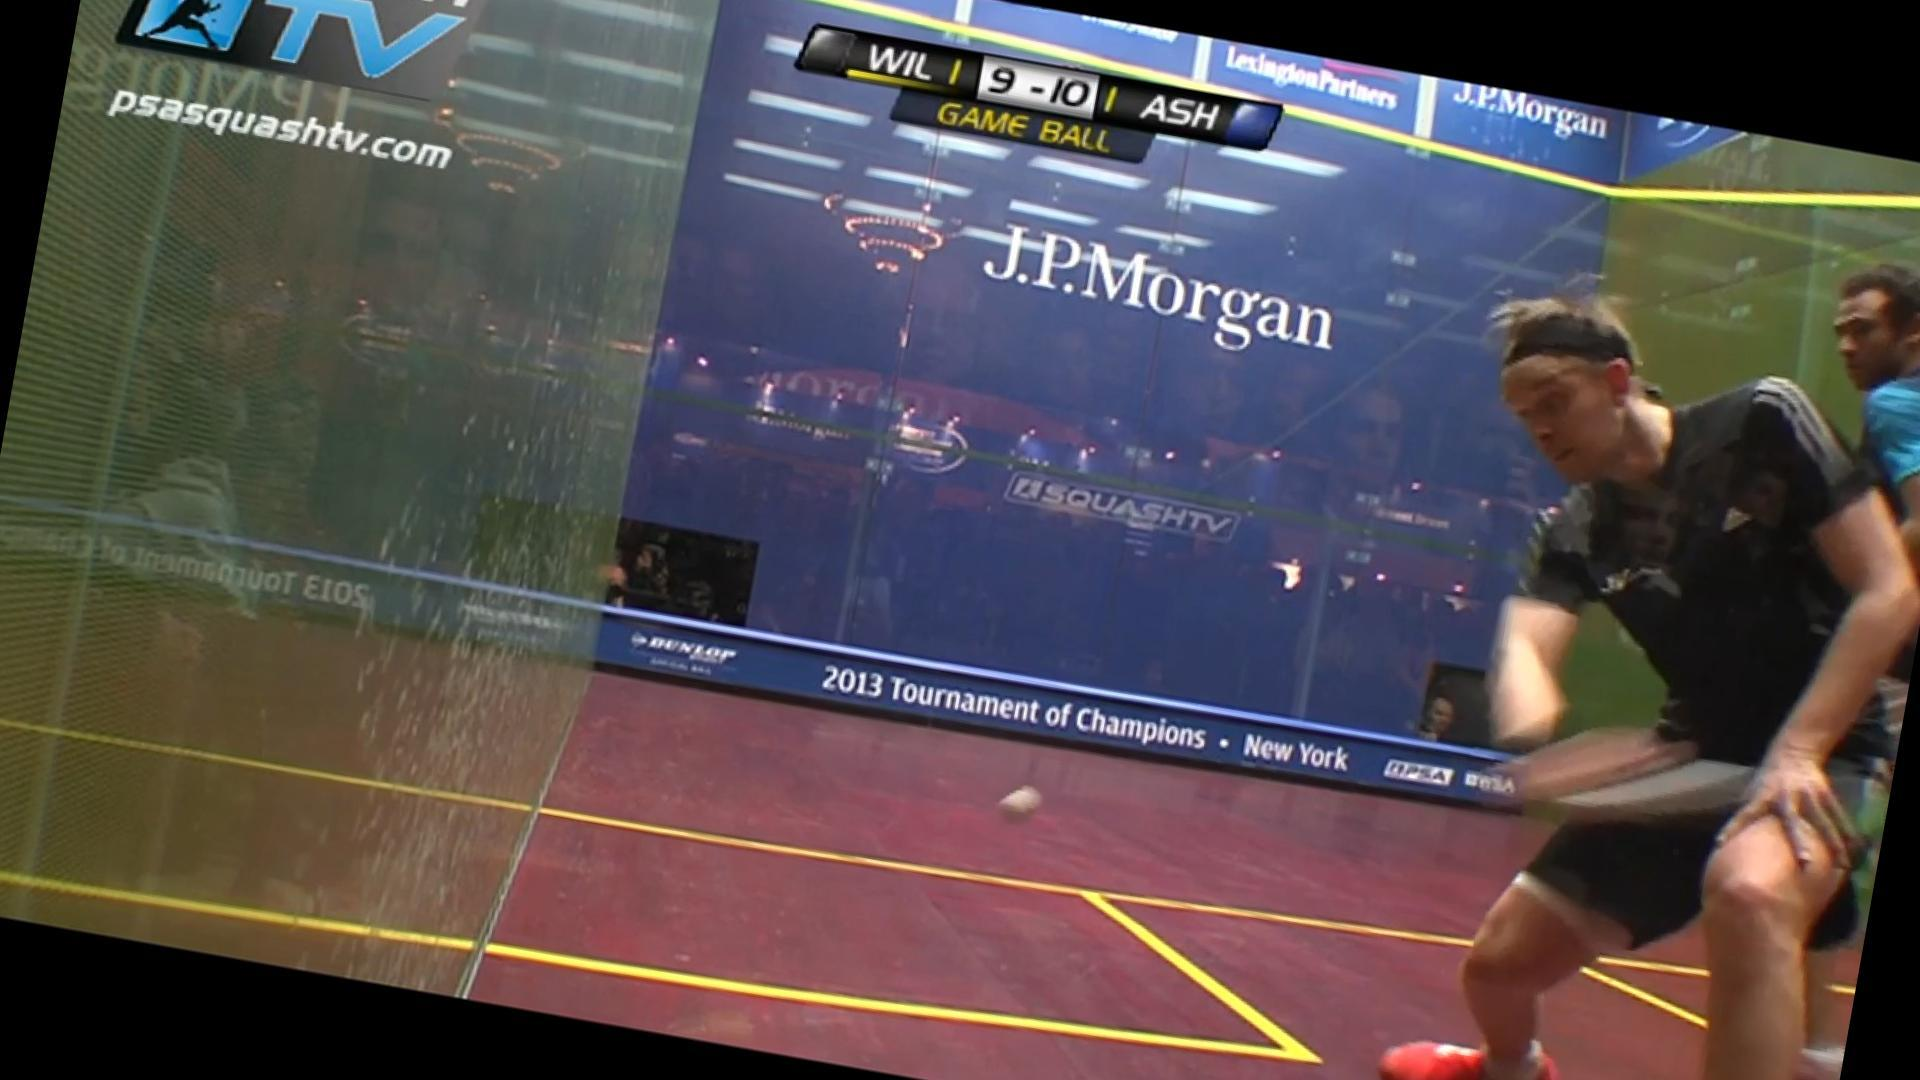Squash-Ball: (988, 779, 1044, 833)
